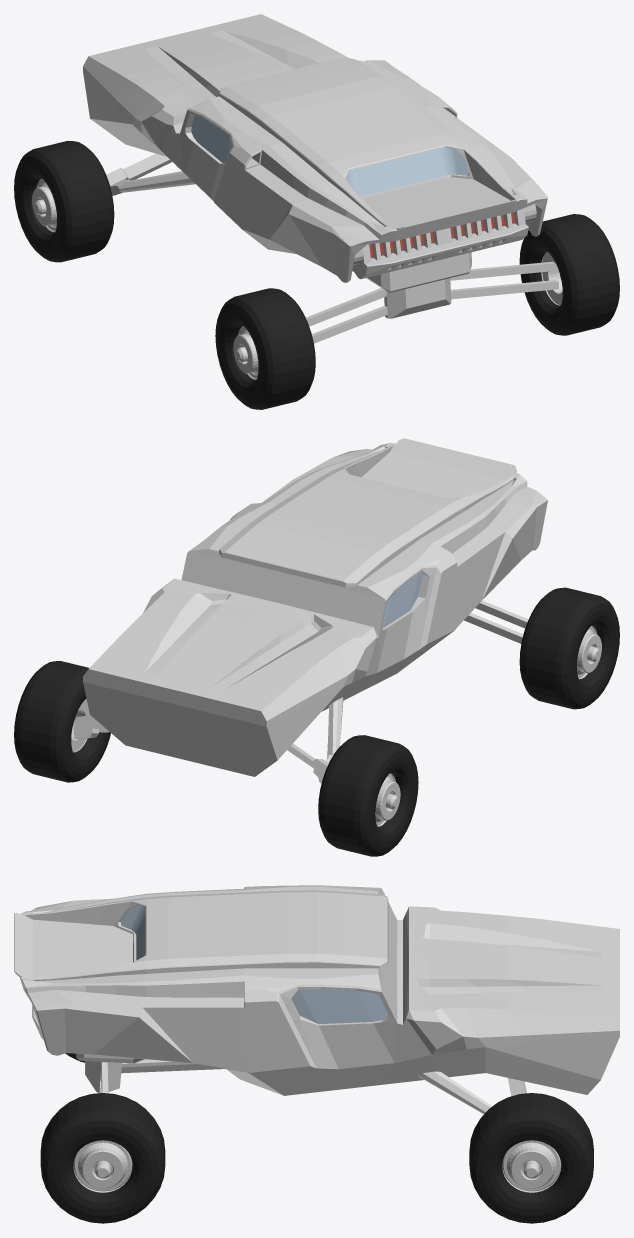
The model's file is Car.glb.
3 renders of one model, top to bottom at view 1: azimuth 30°, elevation 25°; view 2: azimuth 150°, elevation 25°; view 3: azimuth 270°, elevation 25°, orthographic. The views are drawn at different scales.
Parts seen in each view (by area): view 1: Body, Back-L, Front-L, Back-R; view 2: Body, Back-L, Front-L, Front-R; view 3: Body, Back-R, Front-R.
Part boxes in pixels (box(x1,y1,x2,y2)): Body: box(83, 14, 558, 343); Back-L: box(215, 288, 315, 409); Front-L: box(14, 141, 114, 262); Back-R: box(519, 214, 619, 335); Body: box(73, 438, 547, 783); Back-L: box(519, 587, 619, 709); Front-L: box(318, 735, 418, 856); Front-R: box(14, 661, 110, 782); Body: box(14, 885, 619, 1113); Back-R: box(40, 1093, 165, 1223); Front-R: box(469, 1093, 593, 1223).
Size of the model in its own units: 1.42 by 0.7539 by 1.95.
